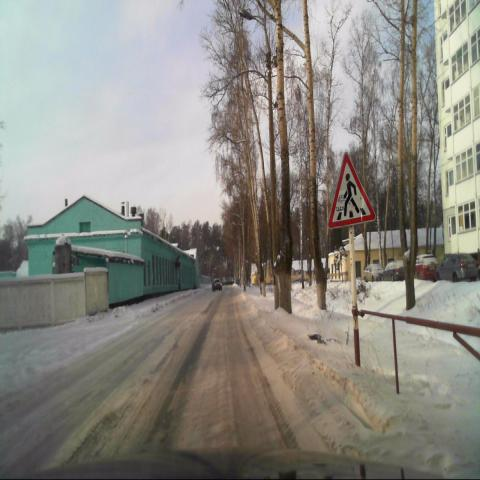1_22: (328, 153, 376, 227)
